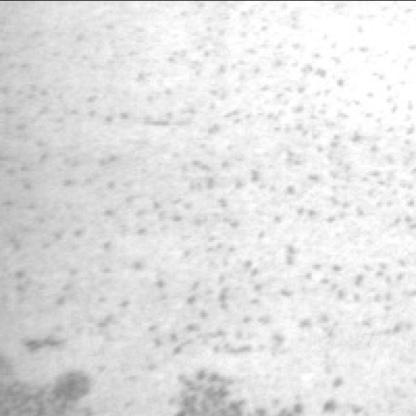pitted_surface: (56, 38, 416, 350), (175, 366, 370, 414), (4, 358, 98, 414)
